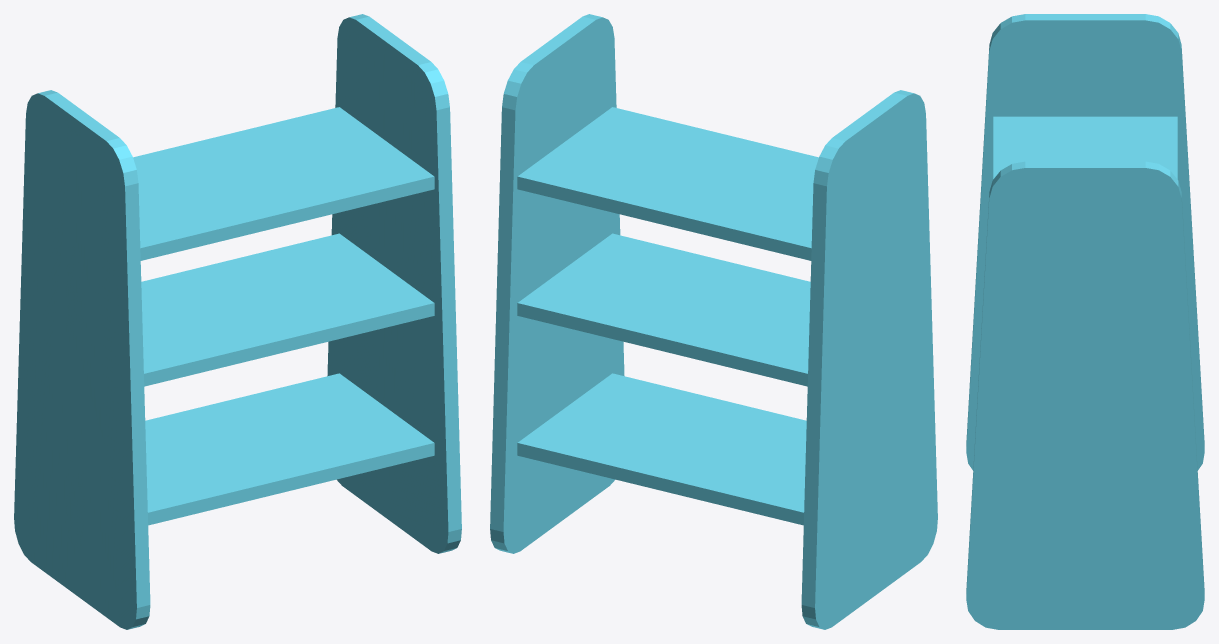
Rendered from Prop_Shelve_14.fbx.
The picture shows the model from 3 angles, left to right: view 1: azimuth 30°, elevation 25°; view 2: azimuth 150°, elevation 25°; view 3: azimuth 270°, elevation 25°; orthographic projection. The views are drawn at different scales.
Parts seen in each view (by area): view 1: Prop_Shelve_14; view 2: Prop_Shelve_14; view 3: Prop_Shelve_14.
Boxes of the visible parts, x1,y1,x2,y2 form: Prop_Shelve_14: (14,14,461,629); Prop_Shelve_14: (490,14,937,629); Prop_Shelve_14: (966,14,1204,629).
Bounding box in the file's own units: 100 × 140 × 65.51.
